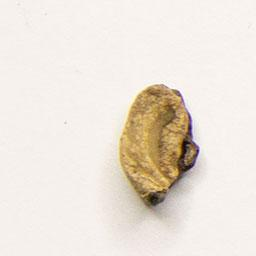defect: (115, 76, 204, 211)
